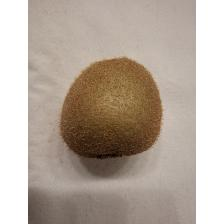Kiwi: (58, 53, 164, 161)
